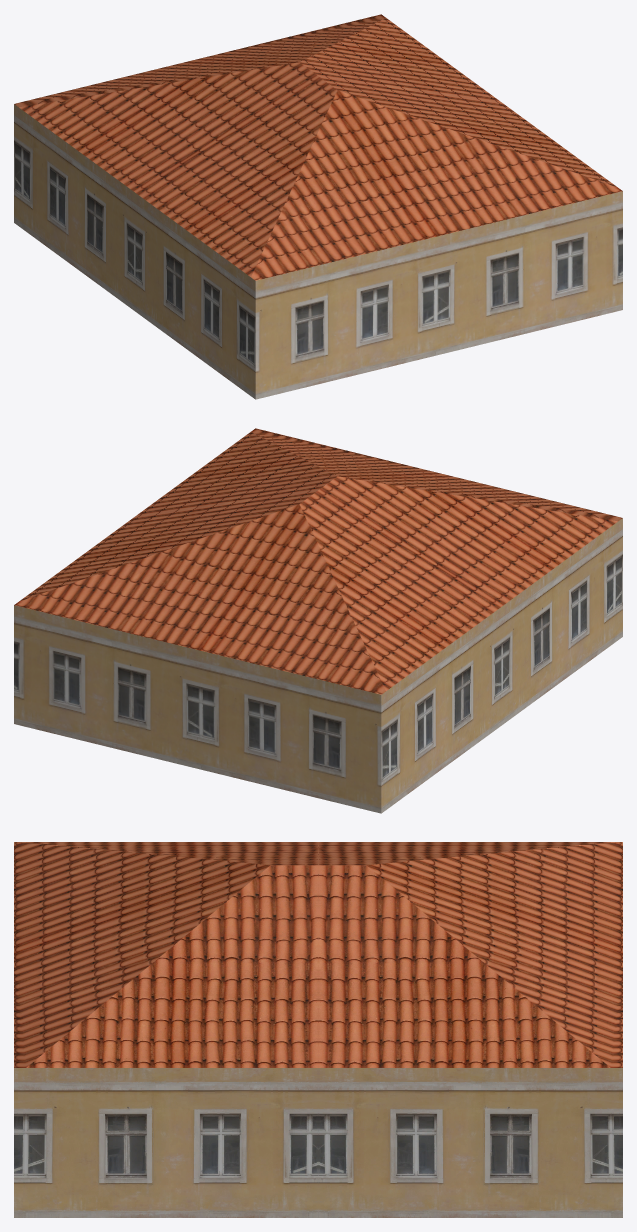
File: Brick3.gltf
The picture shows the model from 3 angles, top to bottom: view 1: azimuth 30°, elevation 25°; view 2: azimuth 150°, elevation 25°; view 3: azimuth 270°, elevation 25°; orthographic projection. The views are drawn at different scales.
Parts seen in each view (by area): view 1: Brick3; view 2: Brick3; view 3: Brick3.
Boxes of the visible parts, <box> form: Brick3: <box>14,14,622,399</box>; Brick3: <box>14,428,622,813</box>; Brick3: <box>14,842,622,1217</box>.
Bounding box in the file's own units: 16.17 × 8 × 18.42.
Materials: 1 (1 with a texture image).
